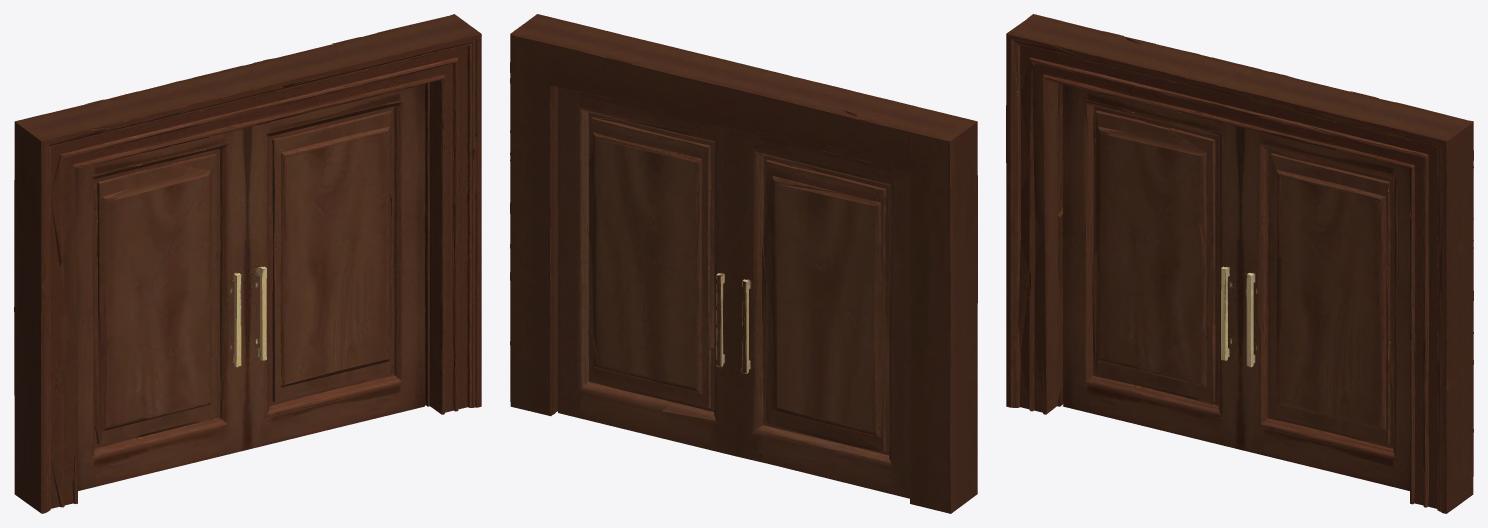
File: double-door-walnut-grand.glb
3 renders of one model, left to right at view 1: azimuth 30°, elevation 25°; view 2: azimuth 150°, elevation 25°; view 3: azimuth 330°, elevation 25°, orthographic.
Parts seen in each view (by area): view 1: mesh_node; view 2: mesh_node; view 3: mesh_node.
Part boxes in pixels (bbox=[...]): mesh_node: bbox=[14, 14, 481, 513]; mesh_node: bbox=[510, 14, 977, 513]; mesh_node: bbox=[1006, 14, 1473, 513].
Bounding box in the file's own units: 1.9 × 1.54 × 0.2061.
Materials: 1 (1 with a texture image).
